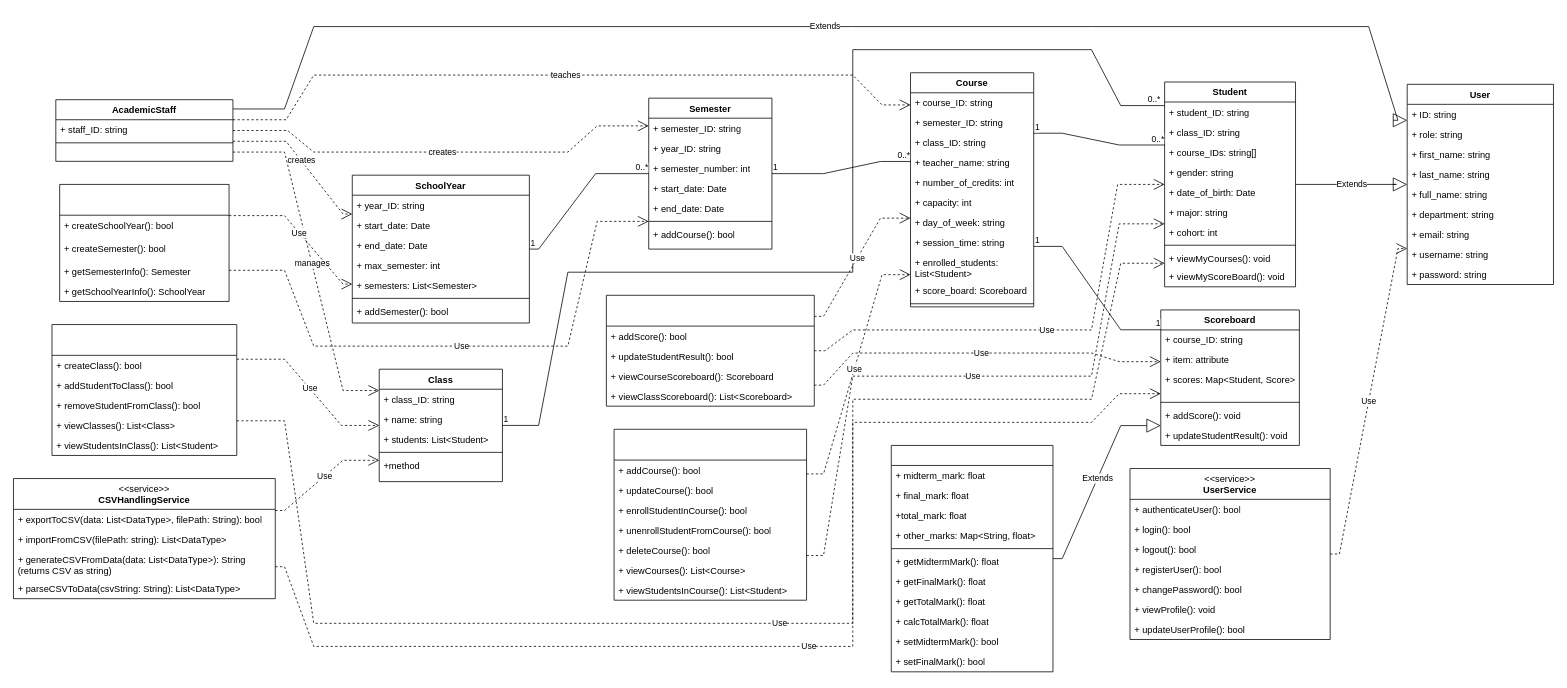
Some shapes in this 1567 by 688 pixel diagram are drawn without their labels. Each missing label, with the box of its shape:
<<service>> ClassManagementService: (51, 324, 237, 455)
<<service>> CourseService: (613, 429, 807, 600)
<<service>> SchoolManagementService: (59, 184, 229, 301)
<<service>> ScoreboardService: (606, 295, 814, 406)
DetailedScore: (891, 445, 1053, 672)
